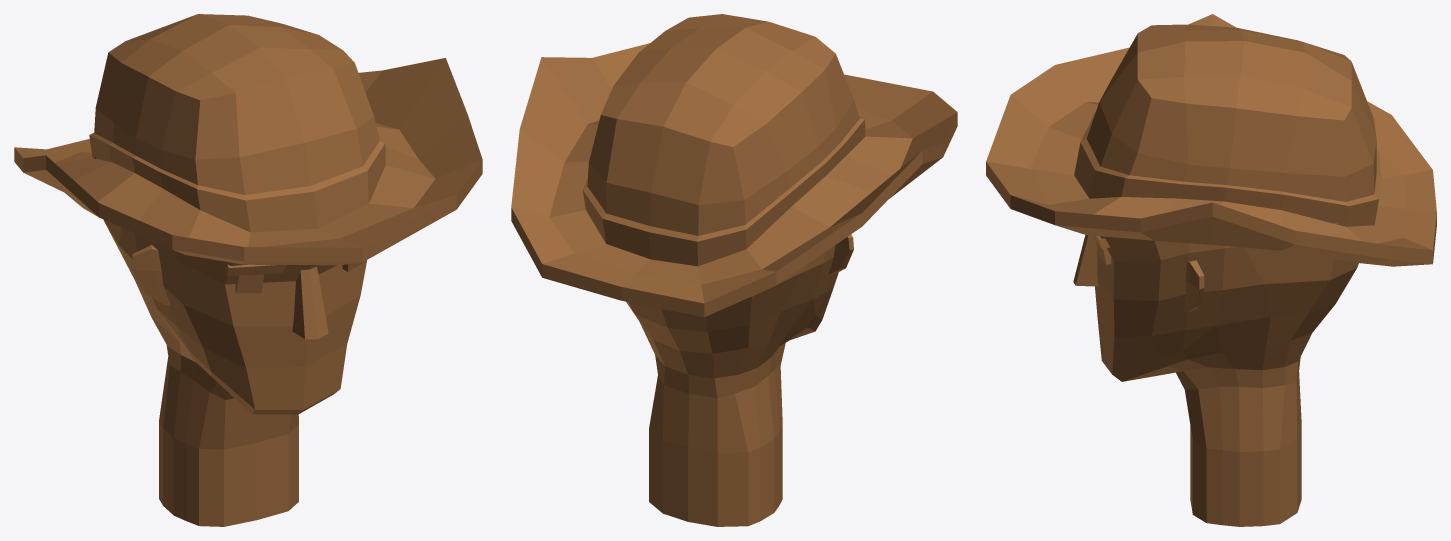
File: quaternius-umm-farmer-head.glb
3 renders of one model, left to right at view 1: azimuth 30°, elevation 25°; view 2: azimuth 150°, elevation 25°; view 3: azimuth 270°, elevation 25°, orthographic. The views are drawn at different scales.
Visible parts, largest first — view 1: JarvisWearable; view 2: JarvisWearable; view 3: JarvisWearable.
Boxes of the visible parts, <box> form: JarvisWearable: <box>14,14,482,526</box>; JarvisWearable: <box>511,14,957,526</box>; JarvisWearable: <box>986,14,1436,526</box>.
Size of the model in its own units: 35.36 by 40.11 by 35.75.
